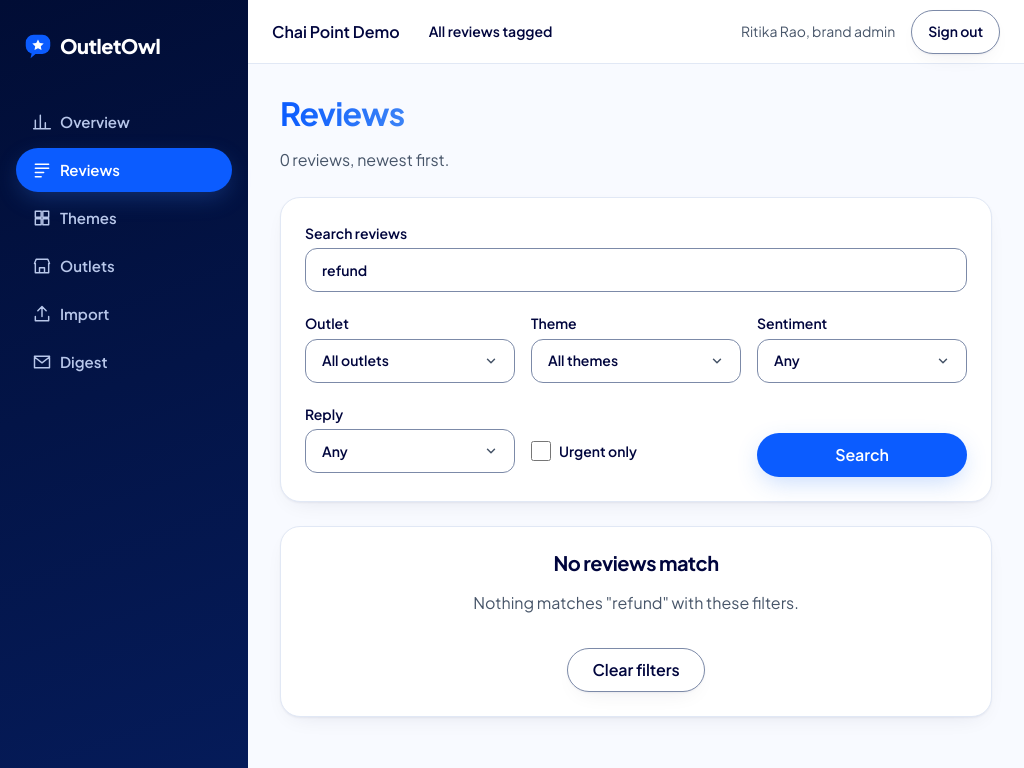
Test: ReviewsPage › no results offers to clear the filters; empty invites the import
Expected: the text "Nothing matches \"refund\" with these filters." is shown, [473, 590, 799, 616]
Click the button "Clear filters".
click(636, 670)  # box [567, 648, 704, 692]
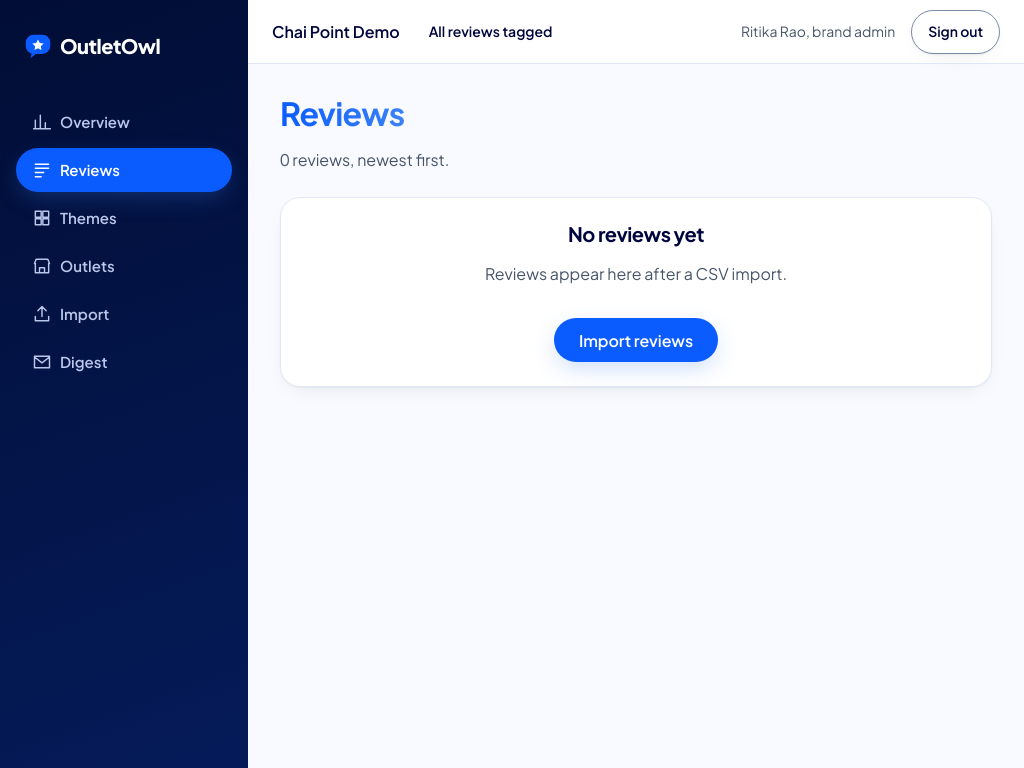
Now the heading "No reviews yet" is shown, box [568, 222, 704, 245]
